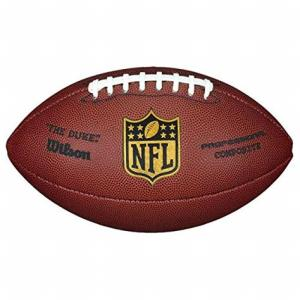Rugby: (6, 66, 293, 235)
